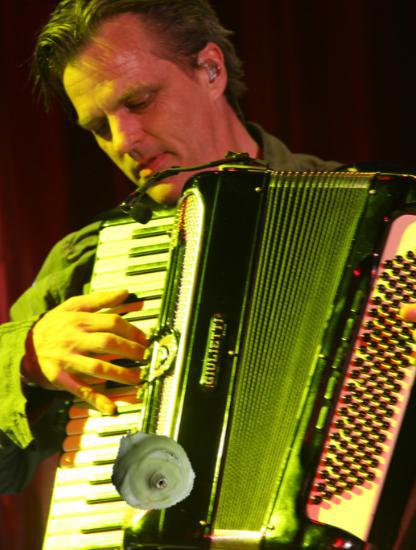Kohlrabi: (108, 425, 195, 512)
